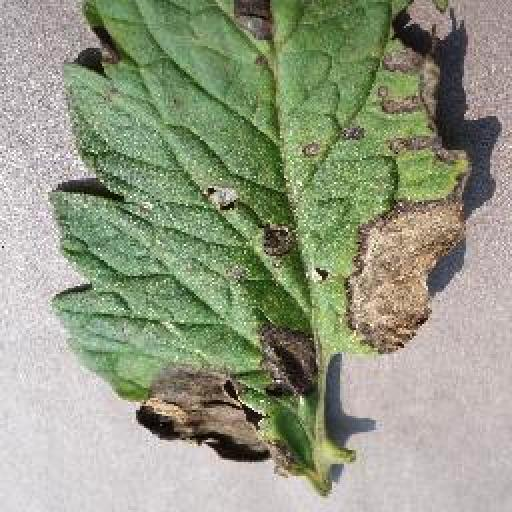disease_tomato: (42, 0, 474, 494)
